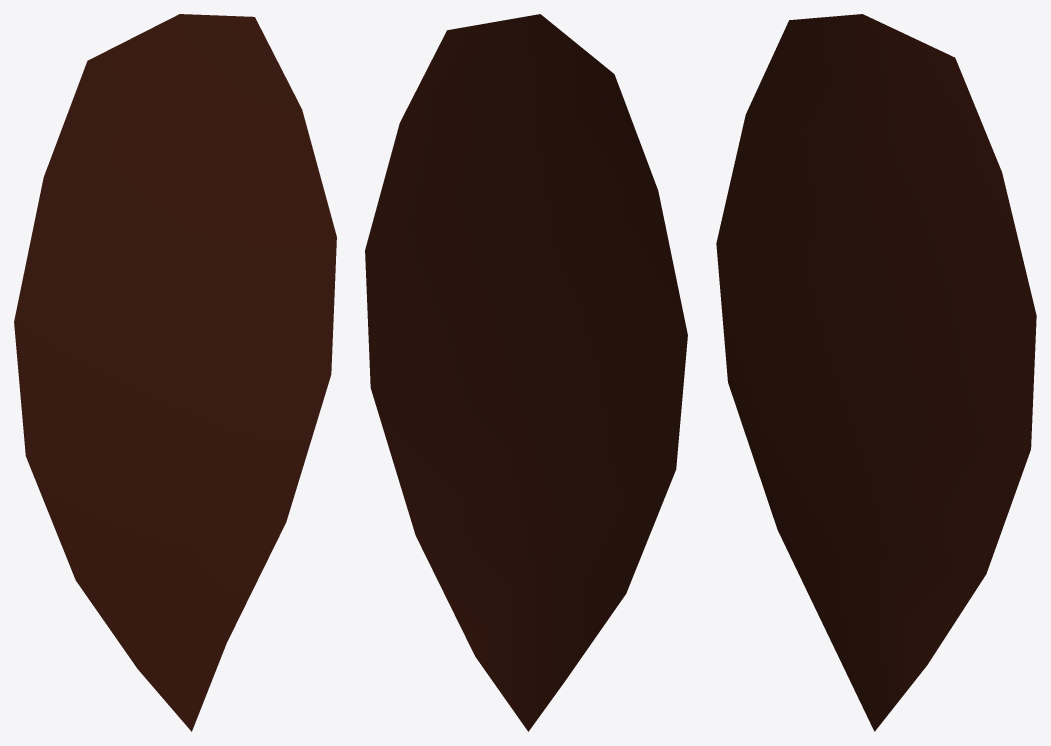
The model's file is hen_feather_flight_tertiary_005.obj.
3 views of the same model, side by side, from view 1: azimuth 30°, elevation 25°; view 2: azimuth 150°, elevation 25°; view 3: azimuth 330°, elevation 25° (orthographic).
Visible parts, largest first — view 1: feather_flight_tertiary_005; view 2: feather_flight_tertiary_005; view 3: feather_flight_tertiary_005.
Boxes of the visible parts, x1,y1,x2,y2 form: feather_flight_tertiary_005: [14, 14, 336, 731]; feather_flight_tertiary_005: [365, 14, 687, 731]; feather_flight_tertiary_005: [716, 14, 1036, 731].
Size of the model in its own units: 0.0107 by 0.0228 by 0.000524.
